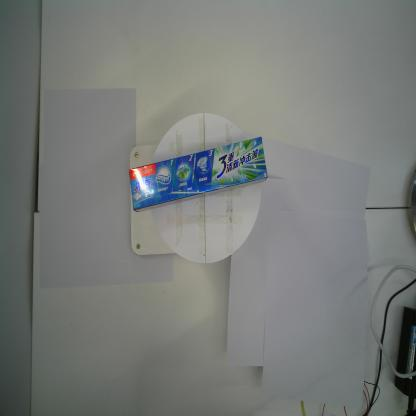Personal Hygiene: (128, 135, 270, 214)
